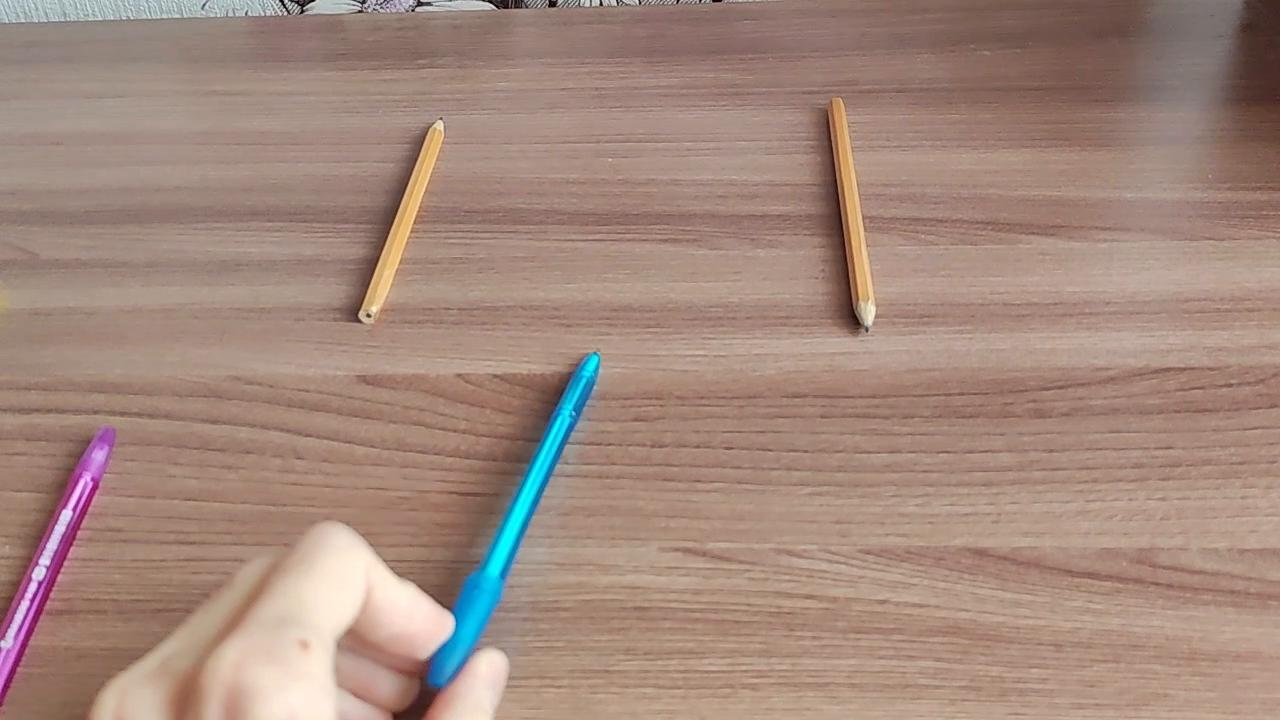pen: (426, 347, 608, 690), (0, 425, 124, 709)
pencil: (355, 113, 454, 327), (821, 95, 881, 339)
